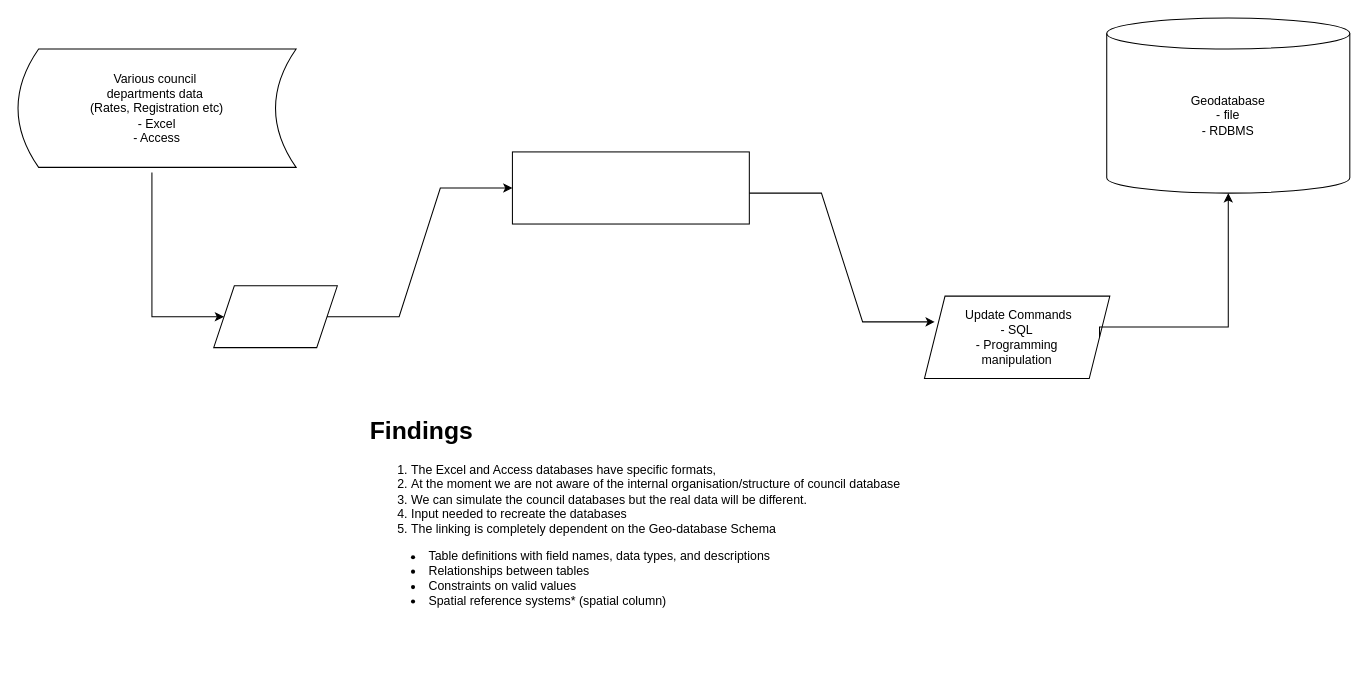
This 1368x678 diagram has some shape labels left out. The centre of each missing label's shape, as x and y in pixels:
"- Excel - Access" goes at pixel 275 316.
"Linker - Convert Excel and access data to SQL" goes at pixel 630 187.
